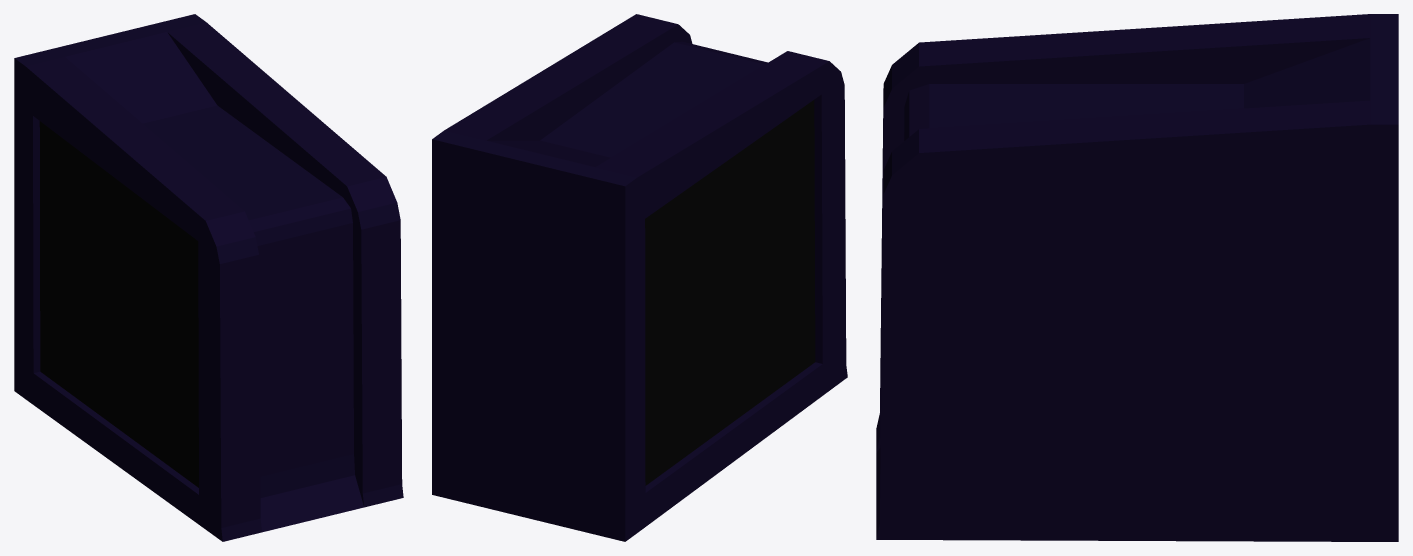
Rendered from Torre.fbx.
3 views of the same model, side by side, from view 1: azimuth 30°, elevation 25°; view 2: azimuth 150°, elevation 25°; view 3: azimuth 270°, elevation 25° (orthographic). The views are drawn at different scales.
Visible parts, largest first — view 1: Cube, Plane; view 2: Cube, Plane; view 3: Cube.
Part boxes in pixels (bbox=[...]): Cube: bbox=[14, 14, 403, 541]; Plane: bbox=[39, 121, 198, 487]; Cube: bbox=[432, 14, 847, 541]; Plane: bbox=[645, 100, 815, 485]; Cube: bbox=[876, 14, 1398, 541].
Bounding box in the file's own units: 26.58 × 46.72 × 53.01.
